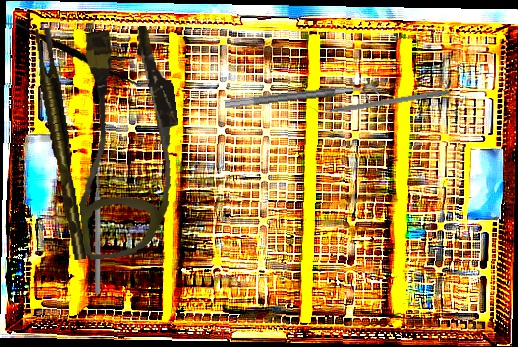Cannula: (58, 23, 194, 261)
Chopper: (307, 81, 451, 118)
Fixation Ring: (224, 83, 380, 121)
Pusher: (94, 160, 102, 294)
Spatula Surgical: (4, 3, 151, 103)
Tissue Forceps: (33, 26, 87, 262)
